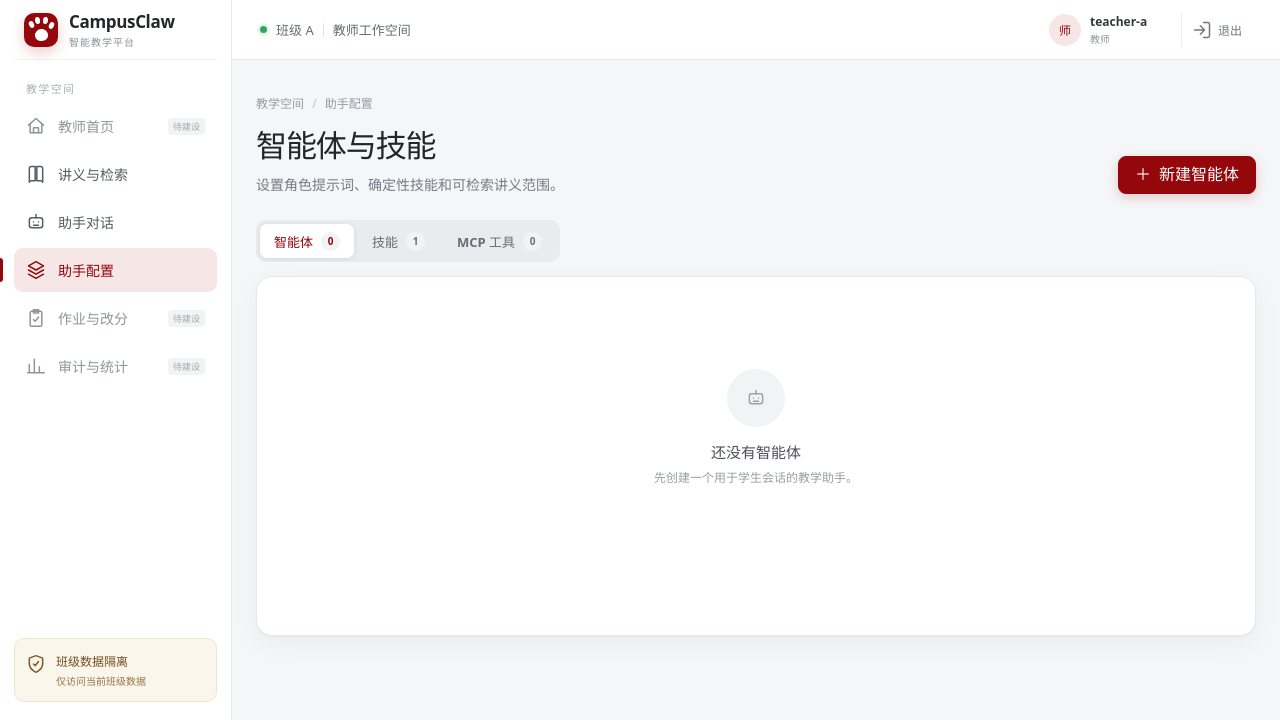
AgentConfigView › keeps the old skill state when toggling fails
The image size is (1280, 720).
Click the tab "技能 1" at (398, 241), box [358,224,439,258]
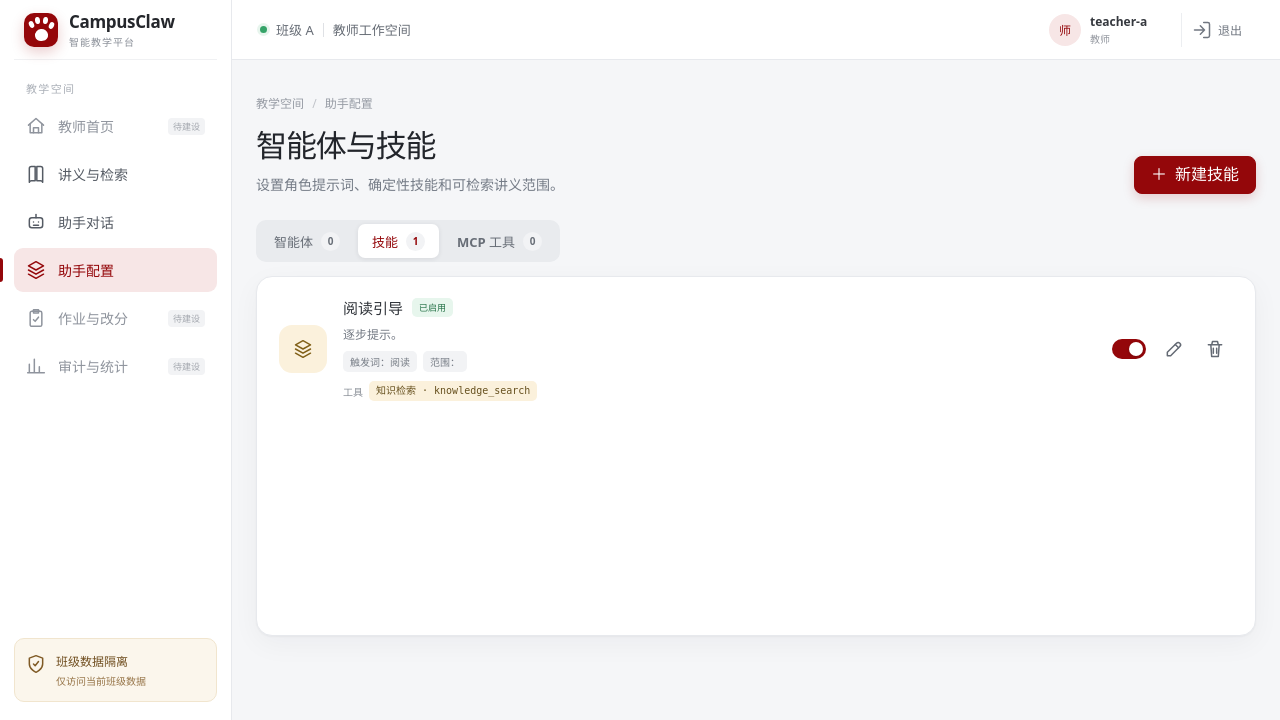
Click the checkbox named "停用技能 阅读引导" at (1129, 349), box [1112,339,1146,359]
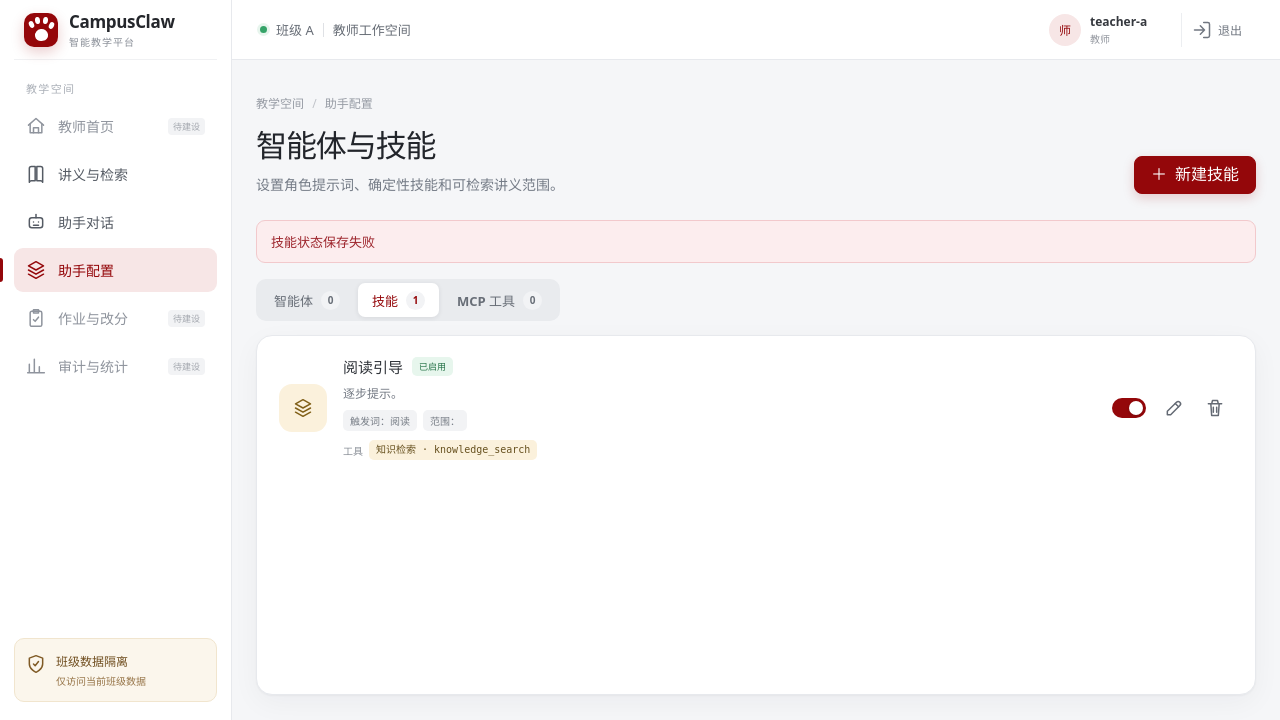
Now the checkbox named "停用技能 阅读引导" is checked, box [1112,398,1146,418]
Now the text "已启用" is shown, box [412,357,453,376]
Now the text "技能状态保存失败" is shown, box [256,220,1256,263]
